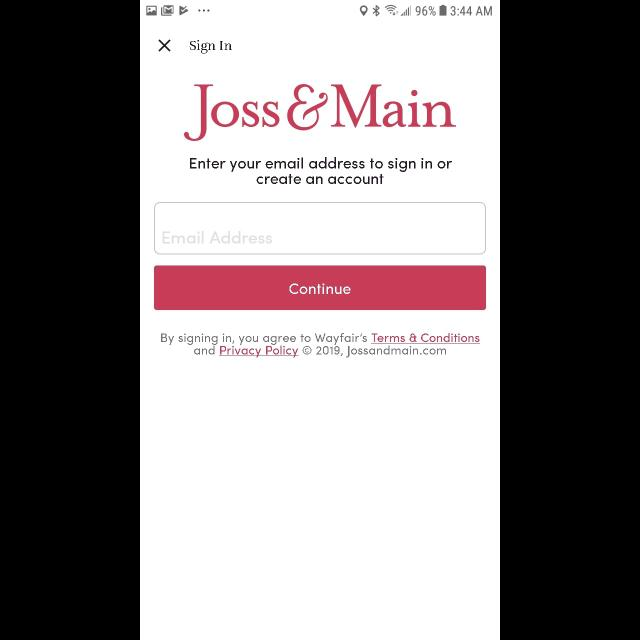icon: (158, 40, 172, 52)
image: (184, 85, 456, 142)
input: (154, 202, 486, 254)
text: (162, 334, 480, 358), (190, 157, 452, 185), (163, 232, 273, 244), (190, 40, 232, 54)
textbutton: (154, 266, 486, 310)
uppertaskbar: (140, 1, 500, 18)
